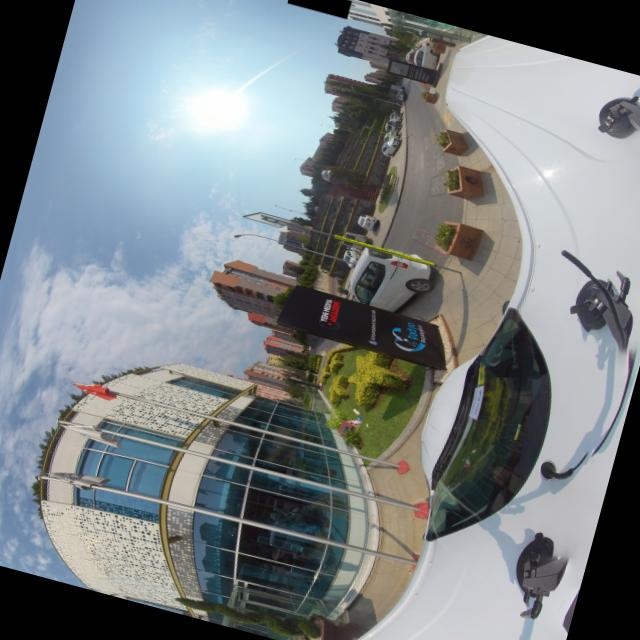SignStore: (313, 0, 345, 18)
